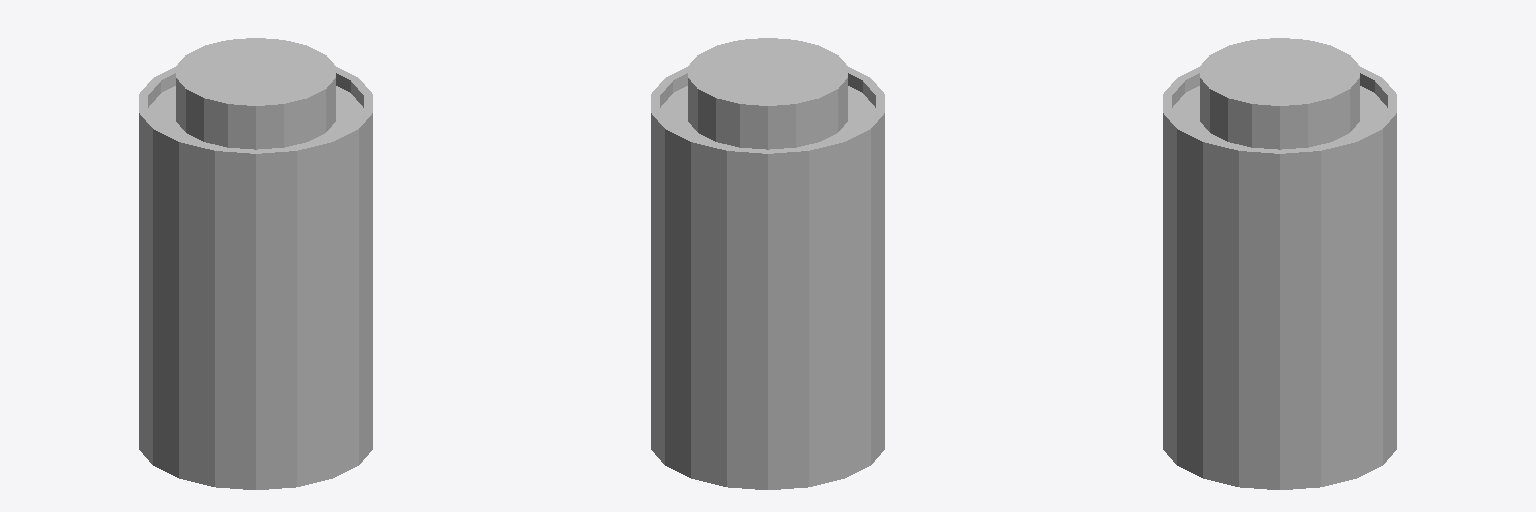
File: Film_Roll.obj
3 views of the same model, side by side, from view 1: azimuth 30°, elevation 25°; view 2: azimuth 150°, elevation 25°; view 3: azimuth 270°, elevation 25° (orthographic).
Parts seen in each view (by area): view 1: Film_Roll; view 2: Film_Roll; view 3: Film_Roll.
Part boxes in pixels (x1,y1,x2,y2): Film_Roll: (139,38,372,489); Film_Roll: (651,38,884,489); Film_Roll: (1163,38,1396,489).
Size of the model in its own units: 14.06 by 23.94 by 13.85.